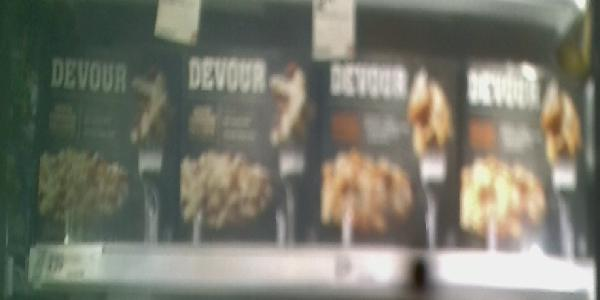pizza1: (451, 45, 588, 265), (32, 42, 176, 246), (313, 44, 449, 250), (178, 43, 312, 243)
